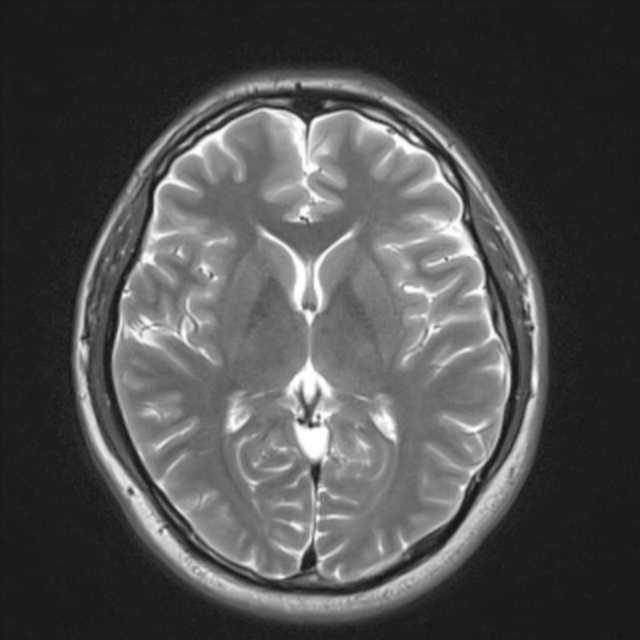glioma tumor: (165, 138, 459, 548)
